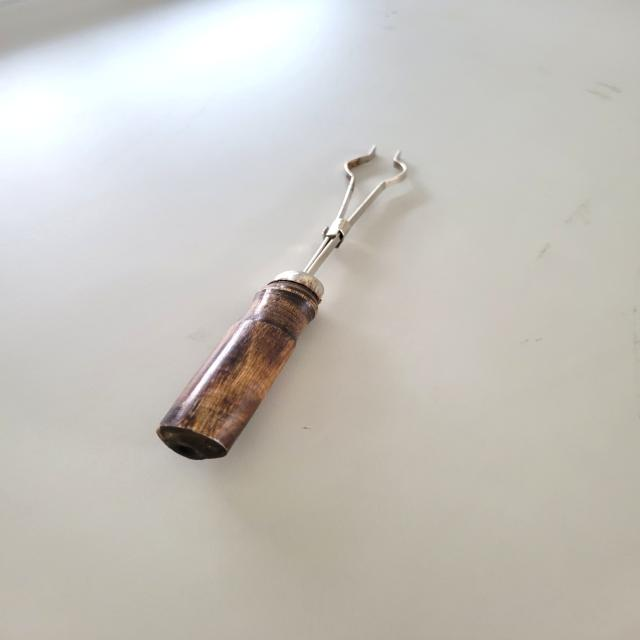TestTube_Holder: (136, 125, 418, 492)
